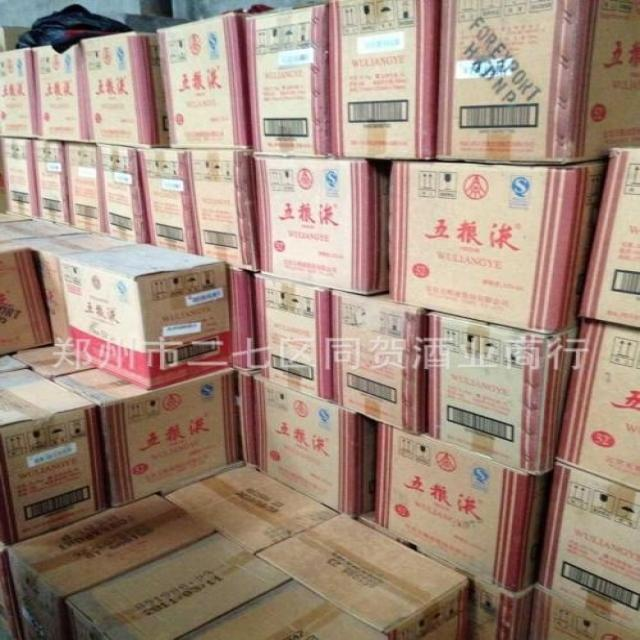box: (388, 159, 607, 335), (434, 0, 640, 167), (374, 422, 554, 594), (9, 496, 214, 640), (256, 513, 471, 640), (50, 367, 239, 507), (59, 242, 232, 390), (428, 312, 581, 475), (67, 532, 292, 640), (355, 512, 536, 640), (0, 368, 108, 544), (252, 155, 388, 294), (252, 375, 378, 518), (328, 0, 439, 161), (536, 463, 640, 632), (10, 232, 140, 356), (165, 466, 340, 552), (558, 320, 640, 490), (333, 289, 425, 435), (246, 3, 332, 156), (173, 579, 387, 640), (156, 13, 252, 148), (579, 146, 640, 328), (81, 32, 169, 148), (253, 273, 333, 400), (187, 149, 257, 272), (526, 586, 640, 640), (137, 149, 196, 253), (0, 241, 52, 355), (32, 42, 90, 143), (97, 144, 148, 243), (64, 142, 105, 235), (0, 48, 37, 138), (32, 140, 69, 224), (0, 139, 37, 218), (0, 220, 90, 242)
